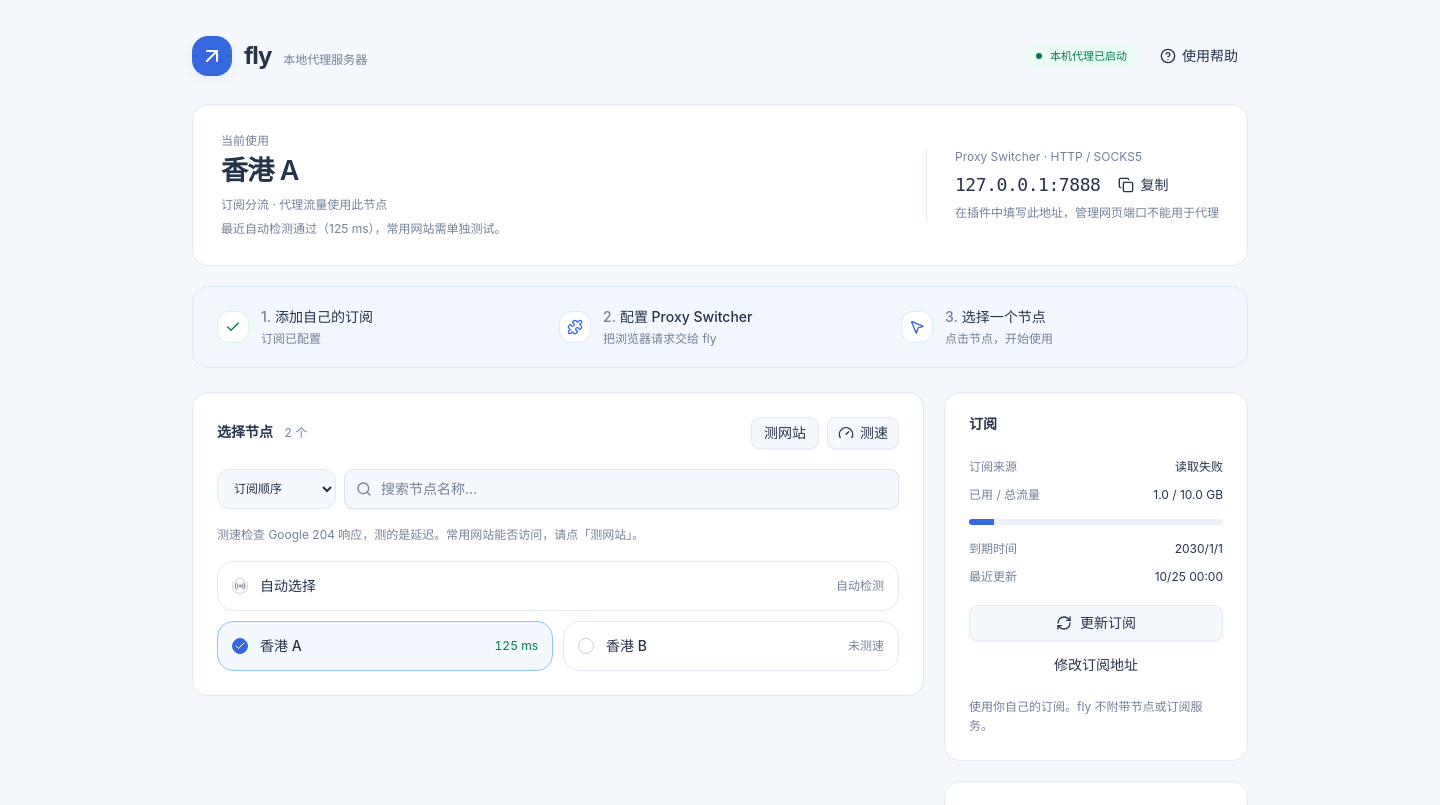
Scenario: never offers to overwrite an unreadable existing subscription
The width and height of the screenshot is (1440, 805).
Click the button "修改订阅地址" at [1096, 665], box [969,649,1223,681]
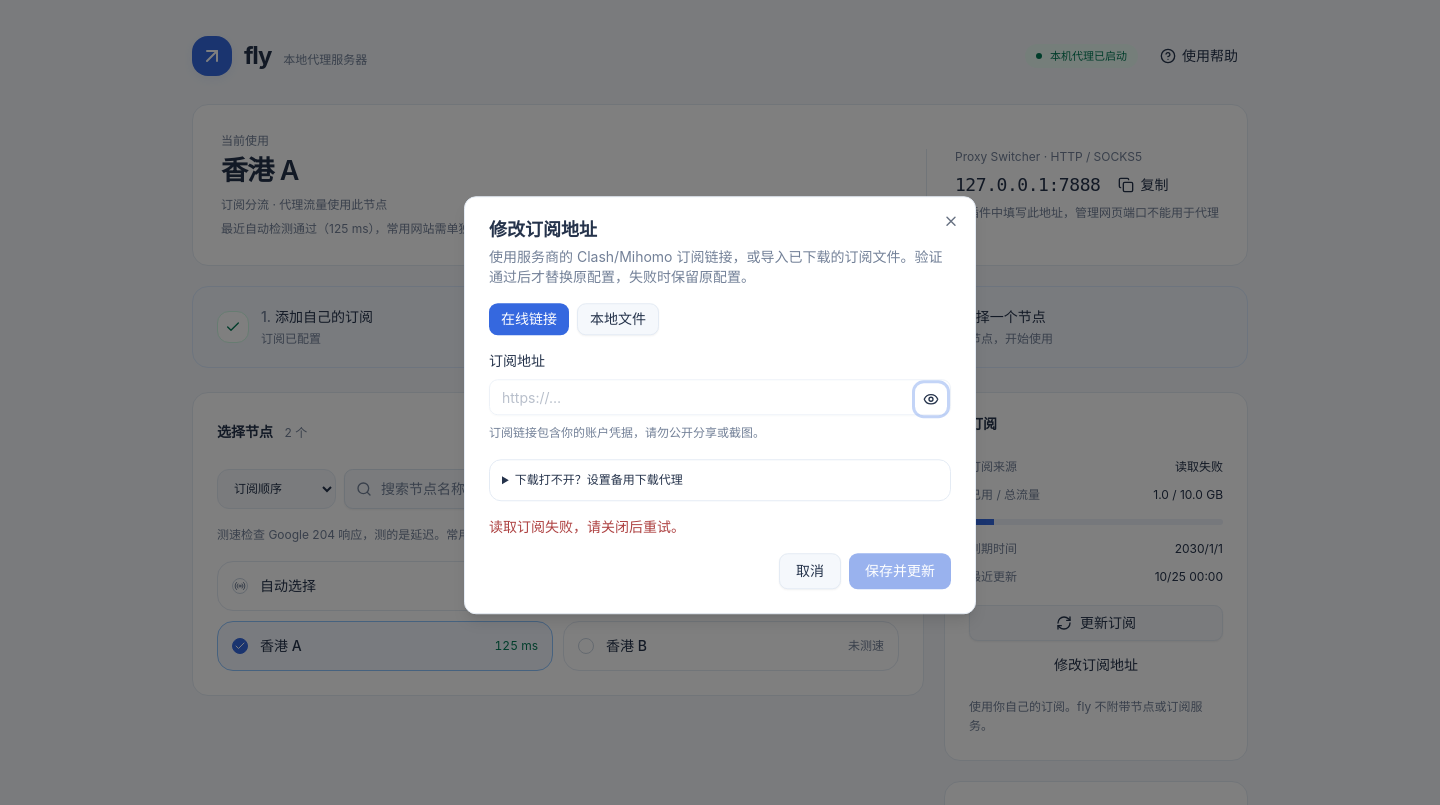
Result: the text "读取订阅失败，请关闭后重试。" is shown at [489,518,685,535]
Result: the button "保存并更新" is disabled at [849,553,951,589]
